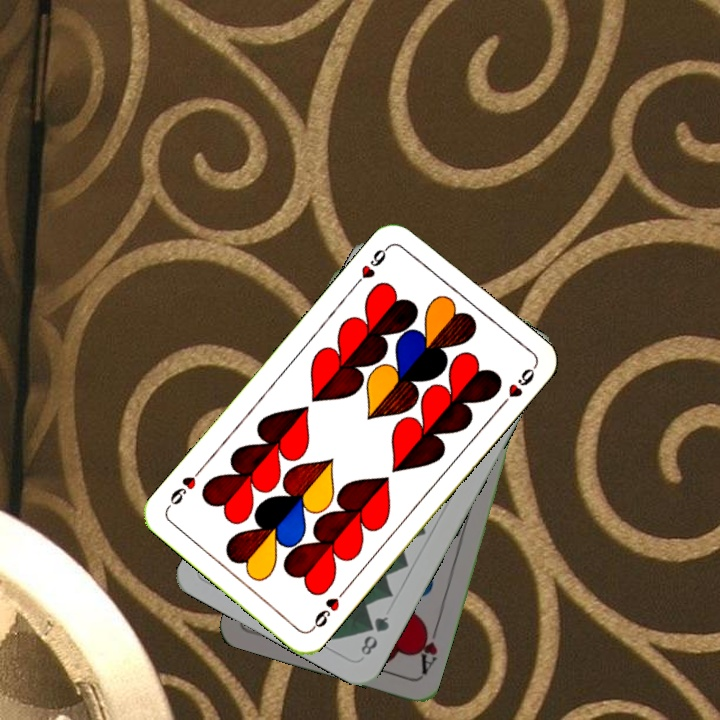G8: (356, 612, 392, 658)
H9: (307, 584, 350, 634), (350, 241, 393, 290)
HA: (412, 619, 441, 677)
